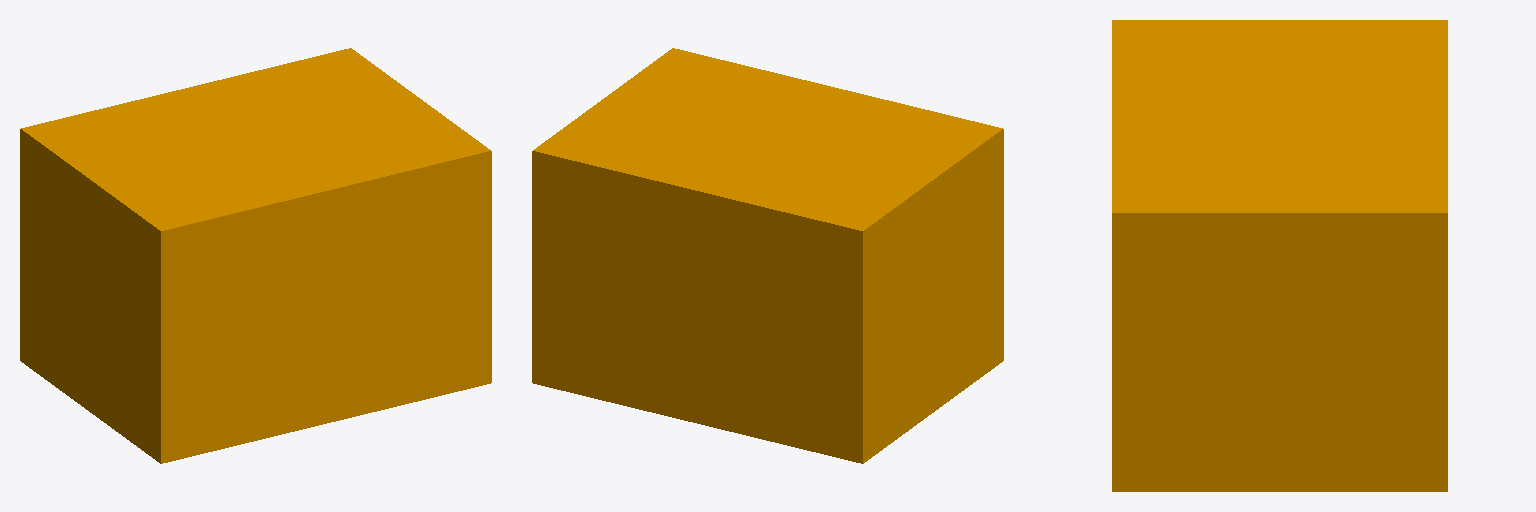
URDF robot description (object):
<?xml version="1.0"?>
<!-- Auto-generated by tools/gen_primitive_objects.py. kind=box dims=(0.086455, 0.063645, 0.058157) -->
<robot name="object">
  <link name="object">
    <visual>
      <origin xyz="0 0 0"/>
      <geometry>
        <box size="0.086455 0.063645 0.058157"/>
      </geometry>
    </visual>
    <collision>
      <origin xyz="0 0 0"/>
      <geometry>
        <box size="0.086455 0.063645 0.058157"/>
      </geometry>
    </collision>
    <inertial>
      <mass value="0.064001"/>
      <inertia ixx="0.00003964" ixy="0.0" ixz="0.0" iyy="0.00005790" iyz="0.0" izz="0.00006147"/>
    </inertial>
  </link>
</robot>

--- Render facts (derived) ---
3 views of the same robot in one strip: view 1: azimuth 30°, elevation 25°; view 2: azimuth 150°, elevation 25°; view 3: azimuth 270°, elevation 25° (orthographic).
Robot: object — 1 links, 0 joints (none); root link object; default pose: every joint at zero.
Links seen in each view (by area): view 1: object; view 2: object; view 3: object.
Boxes of the visible links, x1,y1,x2,y2 form: object: (20,48,491,463); object: (532,48,1003,463); object: (1112,20,1447,491).
Bounding box of the posed robot: 0.0865 × 0.0636 × 0.0582 m (x, y, z).
Geometry: primitives only (box / cylinder / sphere), no mesh files.
